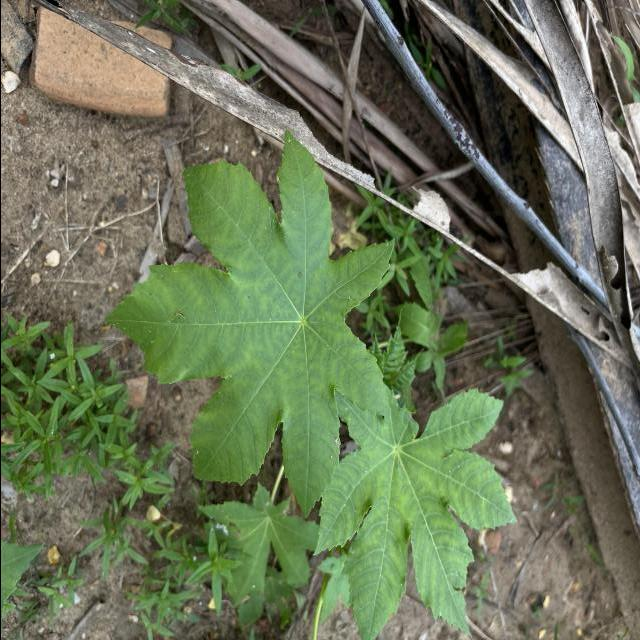Ricinus communis linn: (100, 125, 397, 522), (307, 374, 521, 640)
